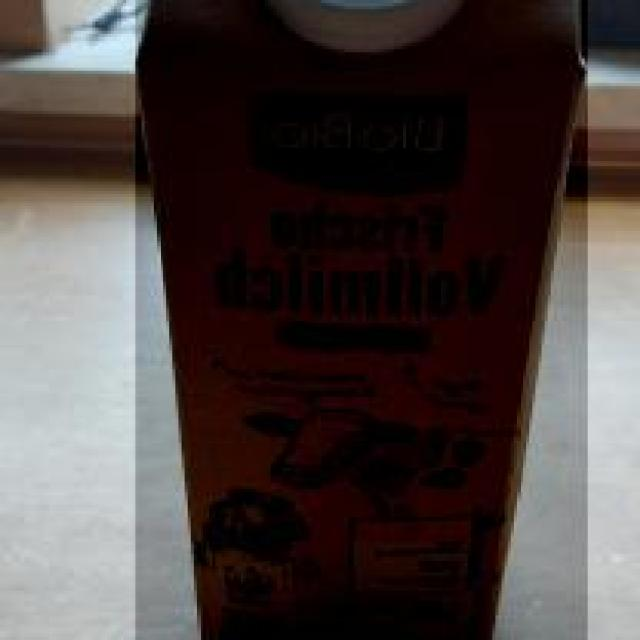milk: (132, 0, 588, 640)
